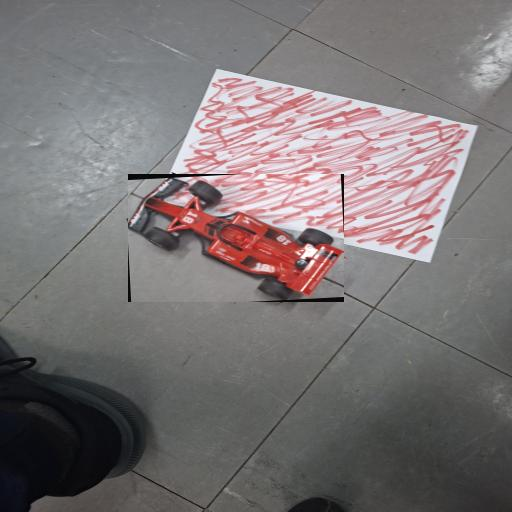carro: (128, 174, 344, 302)
